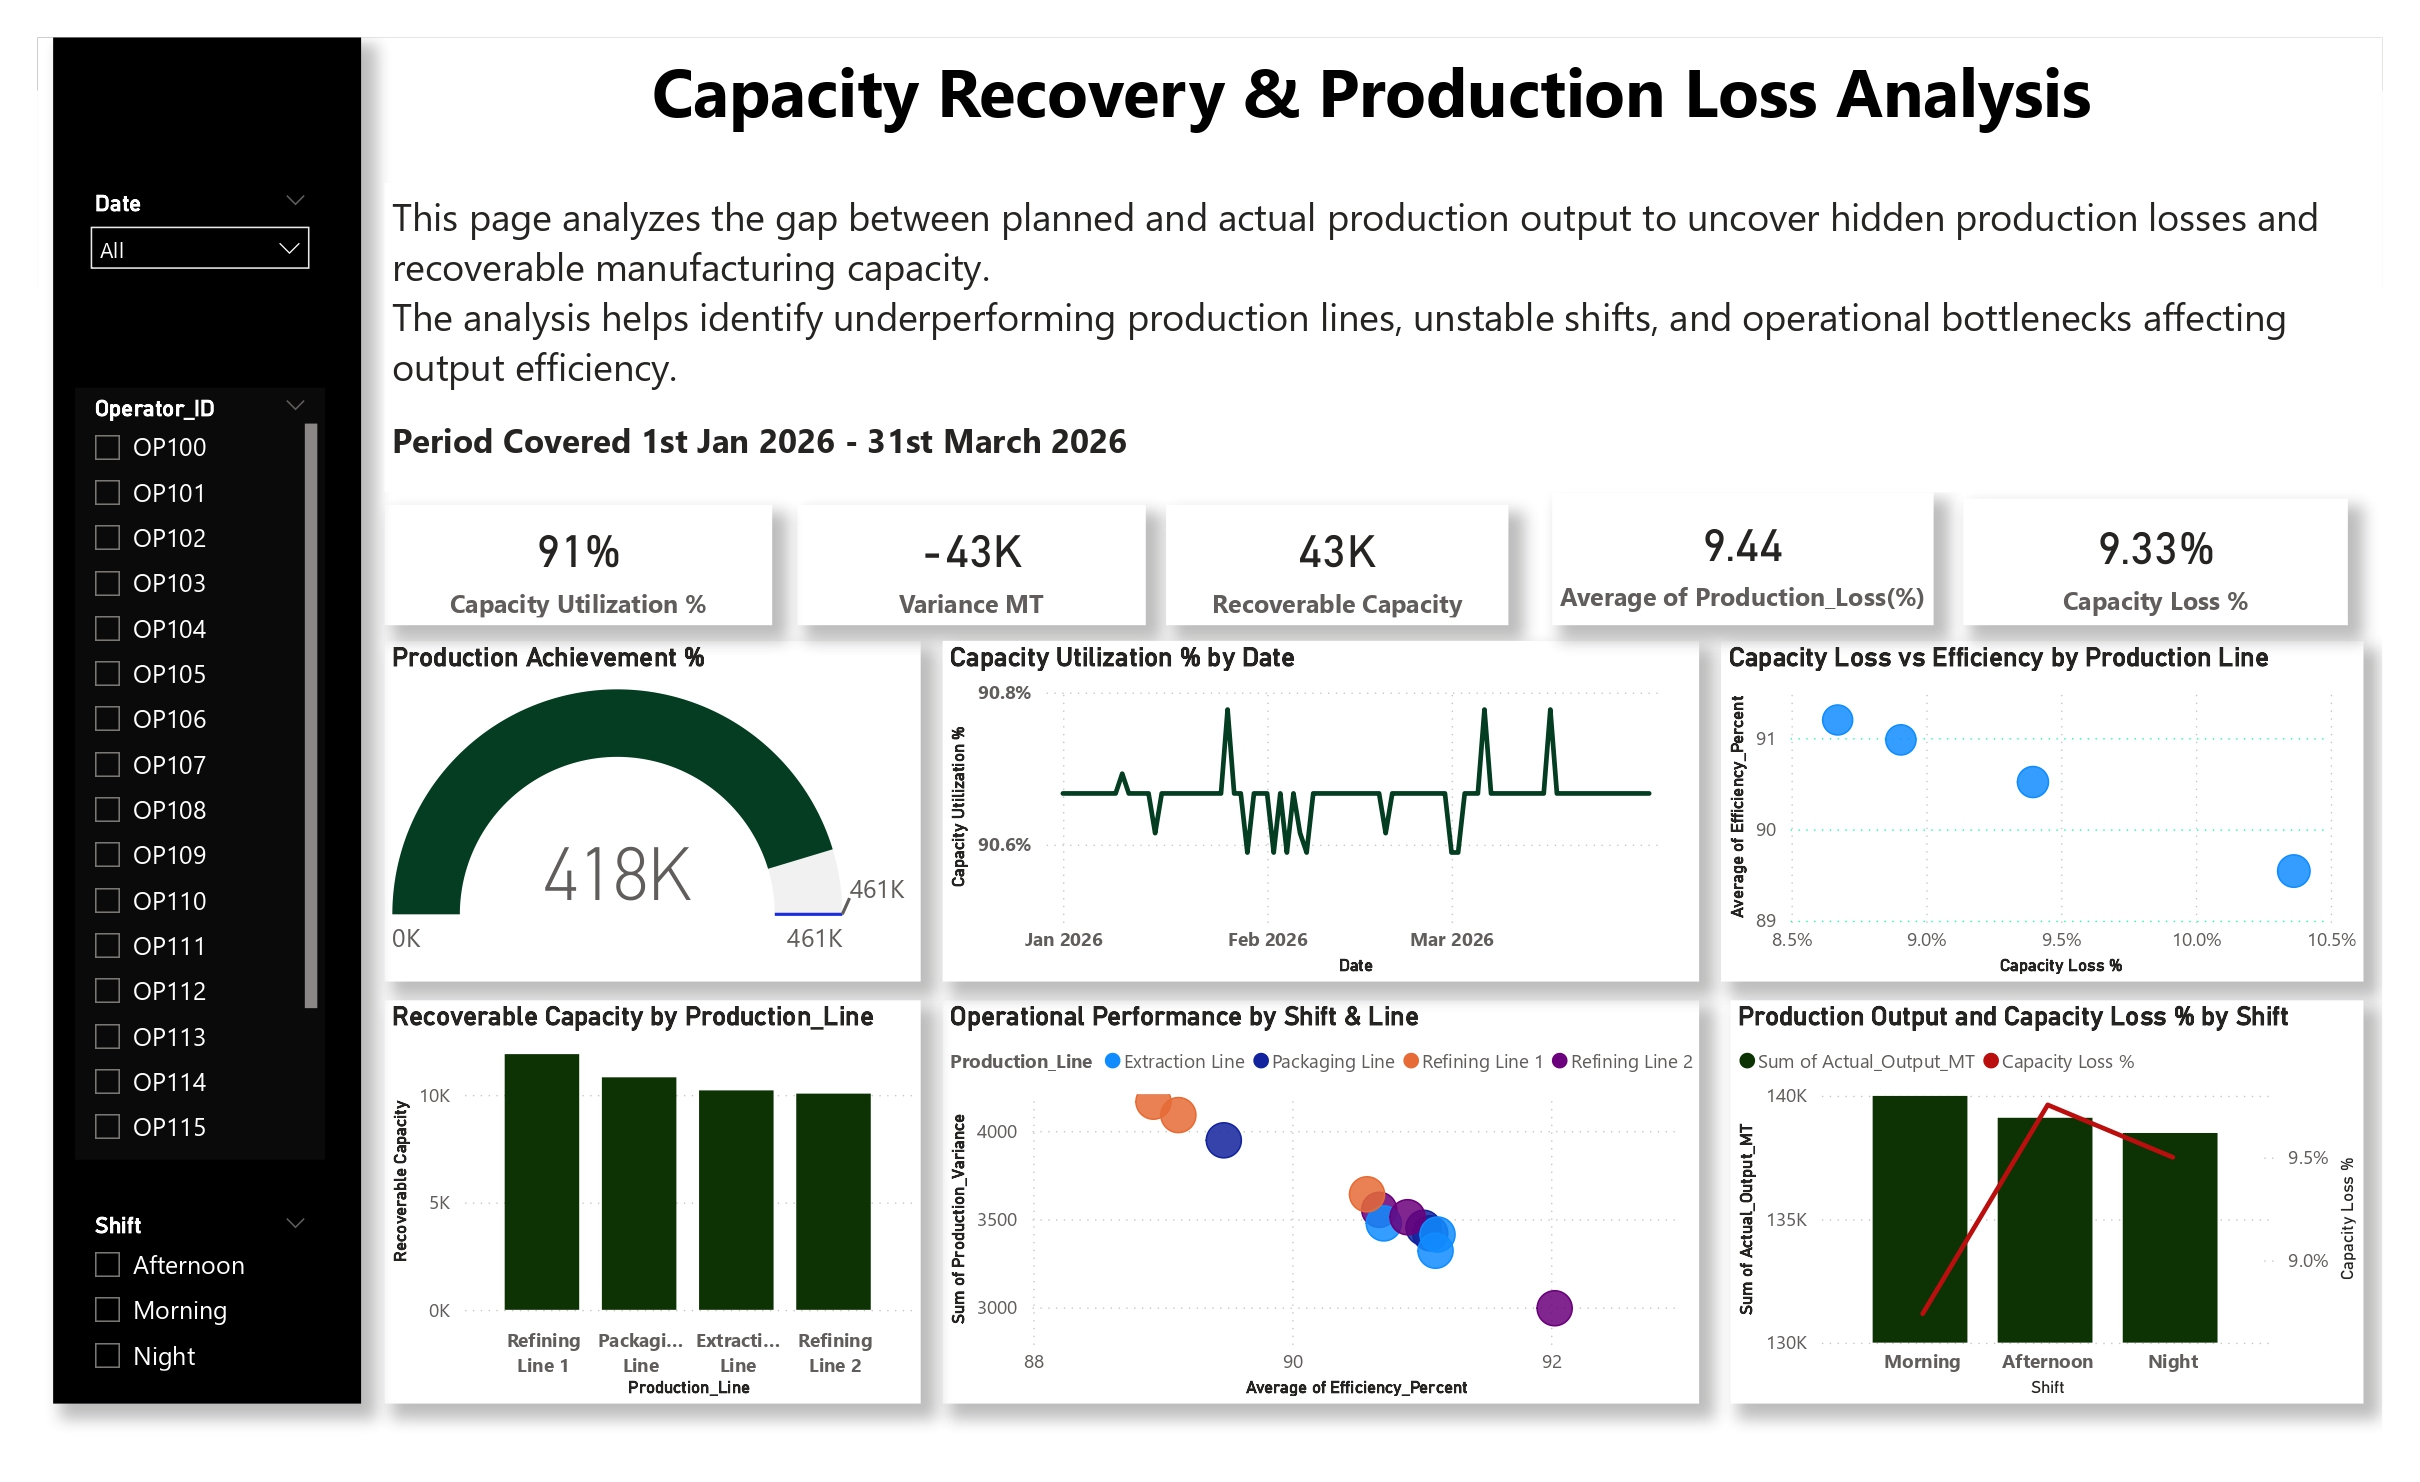

Layout of this report page (visuals, bound fields, positions):
{"tool":"powerbi","page":{"name":"Capacity & Loss","canvas":[1500,900],"ordinal":1},"visuals":[{"type":"textbox","box":[206.7,0,1293.3,72.8],"z":0},{"type":"scatterChart","title":"Operational Performance by Shift & Line","fields":{"X":["Avg(Production_Data.Efficiency_Percent)"],"Y":["Sum(Production_Data.Production_Loss)"],"Size":["Sum(Downtime_Data.Downtime_Duration_Hour)"],"Category":["Production_Data.Shift"],"Series":["Production_Data.Production_Line"]},"box":[578.7,616.1,484.3,257.9],"z":1000},{"type":"gauge","title":"Production Achievement %","fields":{"Y":["Sum(Production_Data.Actual_Output_MT)"],"TargetValue":["Sum(Production_Data.Planned_Output_MT)"],"MaxValue":["Sum(Production_Data.Planned_Output_MT)"]},"box":[222.4,385.8,342.5,218.5],"z":2000},{"type":"card","fields":{"Values":["Production_Data.Variance MT"]},"box":[486.2,299.2,222.4,76.8],"z":3000},{"type":"card","fields":{"Values":["Downtime_Data.Recoverable Capacity"]},"box":[722.4,299.2,218.5,76.8],"z":4000},{"type":"card","fields":{"Values":["Downtime_Data.Capacity Utilization %"]},"box":[222.4,299.2,248,76.8],"z":5000},{"type":"lineChart","fields":{"Category":["Downtime_Data.Date"],"Y":["Downtime_Data.Capacity Utilization %"]},"box":[578.7,385.8,484.3,218.5],"z":6000},{"type":"clusteredColumnChart","fields":{"Category":["Quality_Control.Production_Line"],"Y":["Downtime_Data.Recoverable Capacity"]},"box":[222.4,616.1,342.5,257.9],"z":7000},{"type":"scatterChart","title":"Capacity Loss vs Efficiency by Production Line","fields":{"Y":["Avg(Production_Data.Efficiency_Percent)"],"Size":["Downtime_Data.Recoverable Capacity"],"X":["Production_Data.Capacity Loss %"],"Category":["Production_Data.Production_Line"]},"box":[1076.8,385.8,411.4,218.5],"z":8000},{"type":"lineClusteredColumnComboChart","title":"Production Output and Capacity Loss % by Shift","fields":{"Y":["Sum(Production_Data.Actual_Output_MT)"],"Y2":["Production_Data.Capacity Loss %"],"Category":["Production_Data.Shift"]},"box":[1082.7,616.1,405.5,257.9],"z":9000},{"type":"card","fields":{"Values":["Avg(Production_Data.Production_Loss(%))"]},"box":[968.5,291.3,244.1,84.6],"z":10000},{"type":"textbox","box":[9.8,0,196.9,874],"z":11000},{"type":"slicer","fields":{"Values":["Production_Data.Date"]},"box":[24.4,93.3,160,111.1],"z":12000},{"type":"slicer","fields":{"Values":["Production_Data.Operator_ID"]},"box":[24.4,224.4,160,493.3],"z":13000},{"type":"slicer","fields":{"Values":["Production_Data.Shift"]},"box":[24.4,746.7,160,153.3],"z":14000},{"type":"textbox","box":[222.4,92.5,1277.6,198.8],"z":15000},{"type":"card","fields":{"Values":["Production_Data.Capacity Loss %"]},"box":[1232.3,295.3,246.1,80.7],"z":16000}]}

Visuals, with their boxes on the page's 1500x900 design canvas (x1, y1, x2, y2). These are canvas units, not pixel positions in the 2420x1482 screenshot, which may show the page scaled, cropped or inside an application window:
textbox: detection(207, 0, 1500, 73)
"Operational Performance by Shift & Line" scatterChart: detection(579, 616, 1063, 874)
"Production Achievement %" gauge: detection(222, 386, 565, 604)
card - Production_Data.Variance MT: detection(486, 299, 709, 376)
card - Downtime_Data.Recoverable Capacity: detection(722, 299, 941, 376)
card - Downtime_Data.Capacity Utilization %: detection(222, 299, 470, 376)
lineChart - Downtime_Data.Date x Downtime_Data.Capacity Utilization %: detection(579, 386, 1063, 604)
clusteredColumnChart - Quality_Control.Production_Line x Downtime_Data.Recoverable Capacity: detection(222, 616, 565, 874)
"Capacity Loss vs Efficiency by Production Line" scatterChart: detection(1077, 386, 1488, 604)
"Production Output and Capacity Loss % by Shift" lineClusteredColumnComboChart: detection(1083, 616, 1488, 874)
card - Avg(Production_Data.Production_Loss(%)): detection(968, 291, 1213, 376)
textbox: detection(10, 0, 207, 874)
slicer - Production_Data.Date: detection(24, 93, 184, 204)
slicer - Production_Data.Operator_ID: detection(24, 224, 184, 718)
slicer - Production_Data.Shift: detection(24, 747, 184, 900)
textbox: detection(222, 92, 1500, 291)
card - Production_Data.Capacity Loss %: detection(1232, 295, 1478, 376)
